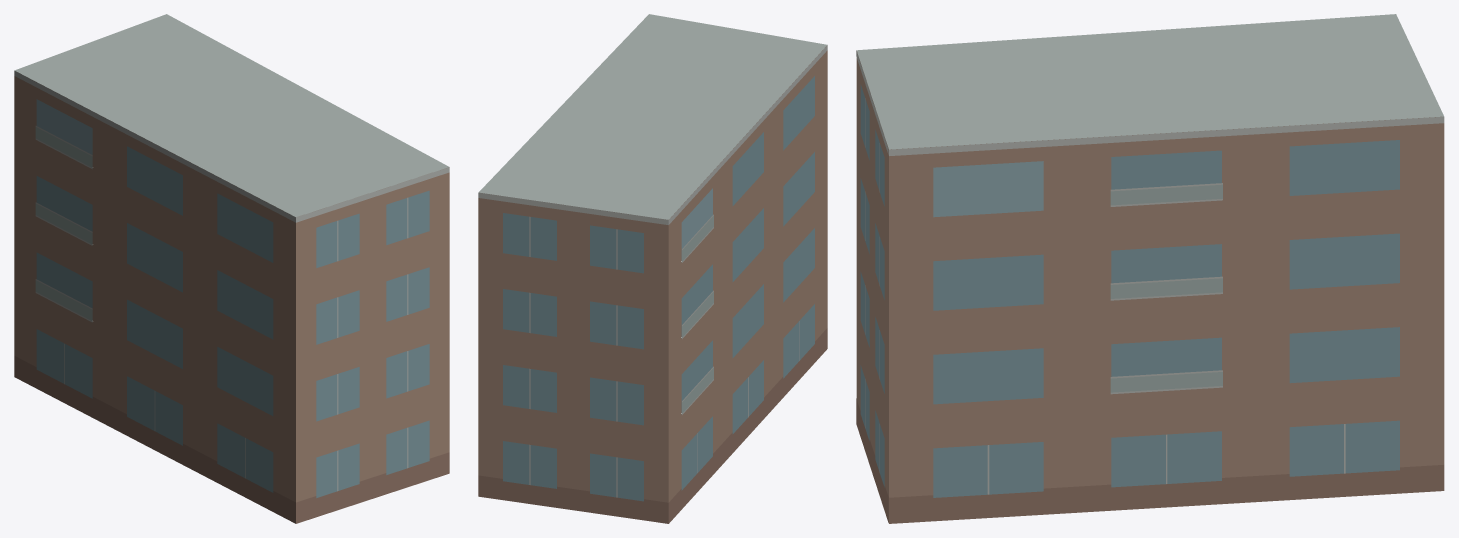
File: survey-upis-32934707.glb
The picture shows the model from 3 angles, left to right: view 1: azimuth 30°, elevation 25°; view 2: azimuth 150°, elevation 25°; view 3: azimuth 270°, elevation 25°; orthographic projection. The views are drawn at different scales.
Visible parts, largest first — view 1: survey-upis-32934707.tmp; view 2: survey-upis-32934707.tmp; view 3: survey-upis-32934707.tmp.
Boxes of the visible parts, bbox=[...] form: survey-upis-32934707.tmp: bbox=[14, 14, 449, 523]; survey-upis-32934707.tmp: bbox=[478, 14, 827, 523]; survey-upis-32934707.tmp: bbox=[856, 14, 1444, 523].
Size of the model in its own units: 10.73 by 13.8 by 19.65.
